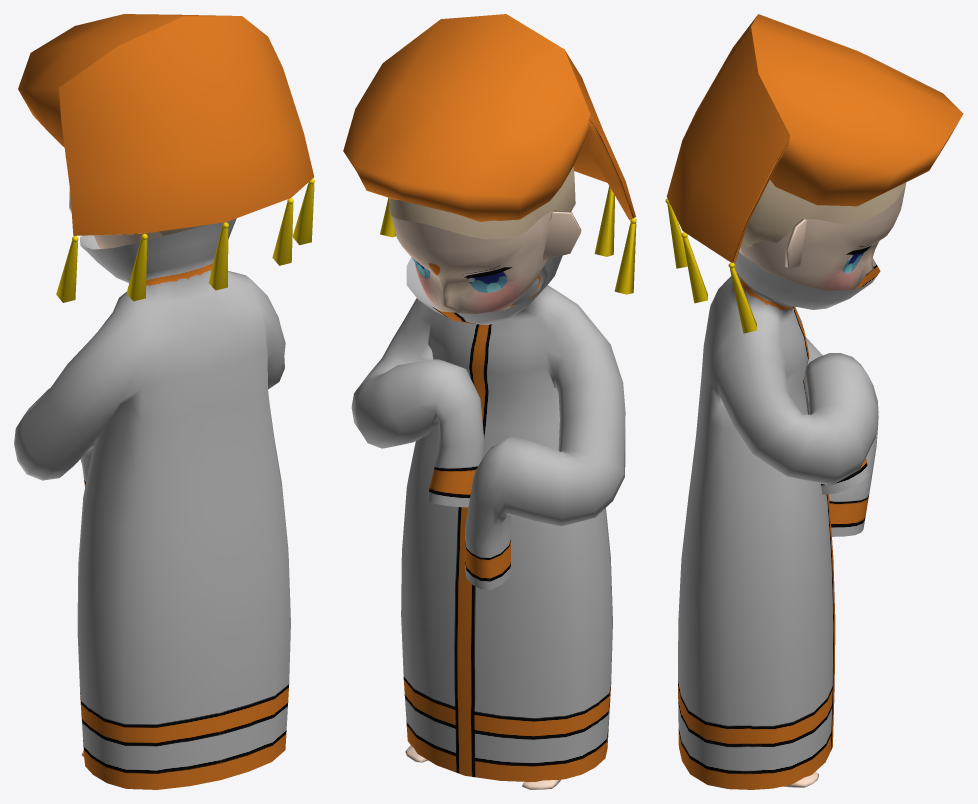
File: siruku_Missionary.fbx
The picture shows the model from 3 angles, left to right: view 1: azimuth 30°, elevation 25°; view 2: azimuth 150°, elevation 25°; view 3: azimuth 270°, elevation 25°; orthographic projection. The views are drawn at different scales.
Visible parts, largest first — view 1: siruku_Missionary; view 2: siruku_Missionary; view 3: siruku_Missionary.
Boxes of the visible parts, <box> form: siruku_Missionary: <box>14,14,314,789</box>; siruku_Missionary: <box>343,14,636,789</box>; siruku_Missionary: <box>665,14,963,789</box>.
Bounding box in the file's own units: 234 × 635 × 236.
